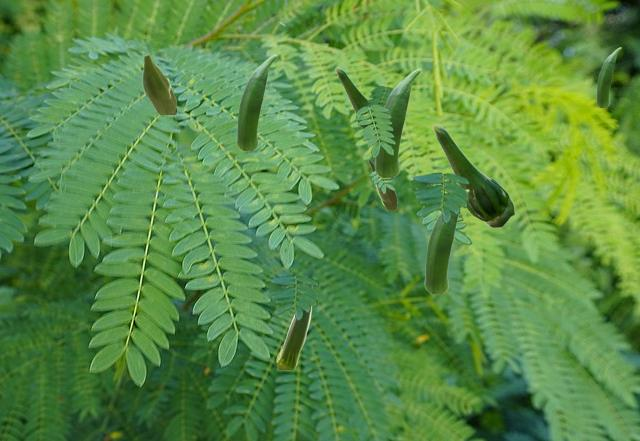okra: (432, 124, 514, 227), (374, 68, 420, 176), (424, 189, 468, 292), (236, 54, 276, 149), (276, 286, 311, 368), (335, 67, 367, 128), (142, 54, 175, 113), (596, 47, 620, 106), (368, 159, 396, 209)
